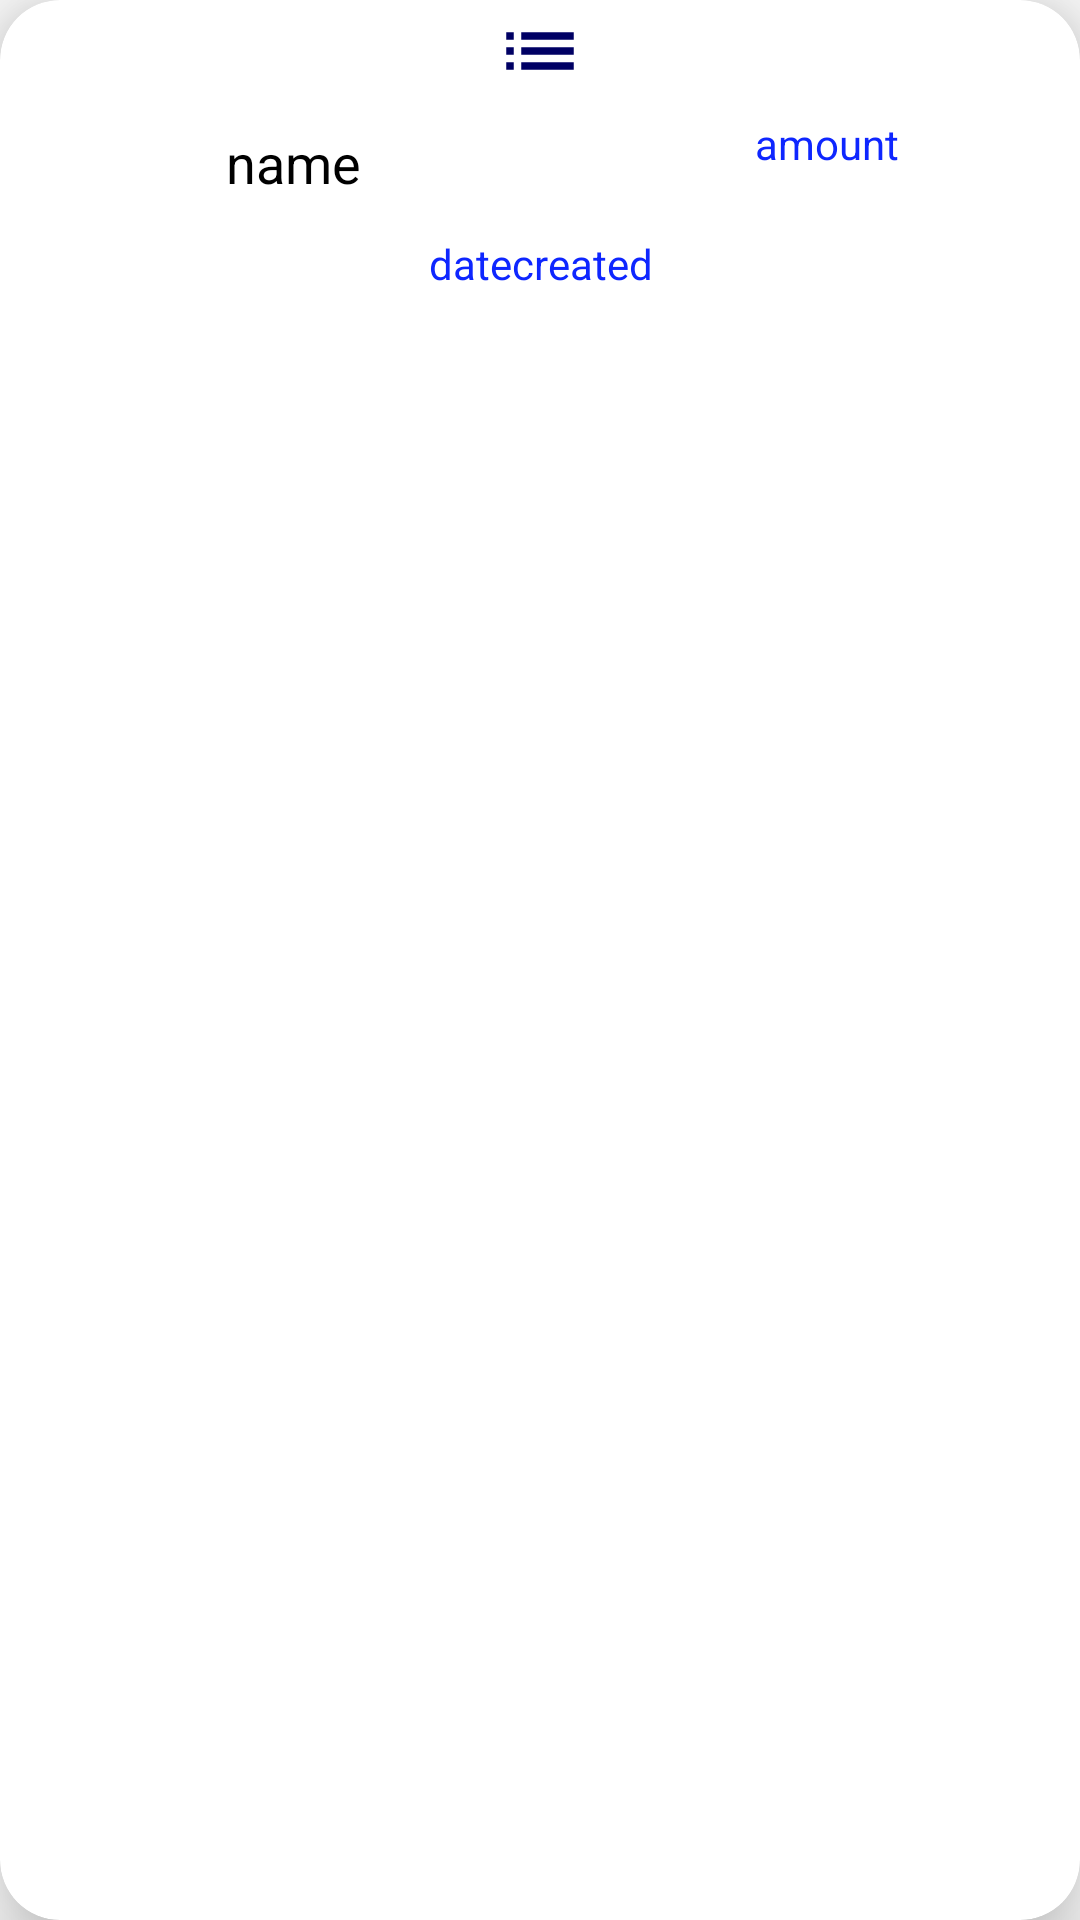

Icon click points for this 1080*1920 phone screenshot, format (x=x, y=y):
list: (x=540, y=51)
